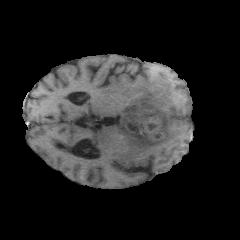glioma: (115, 73, 180, 151)
